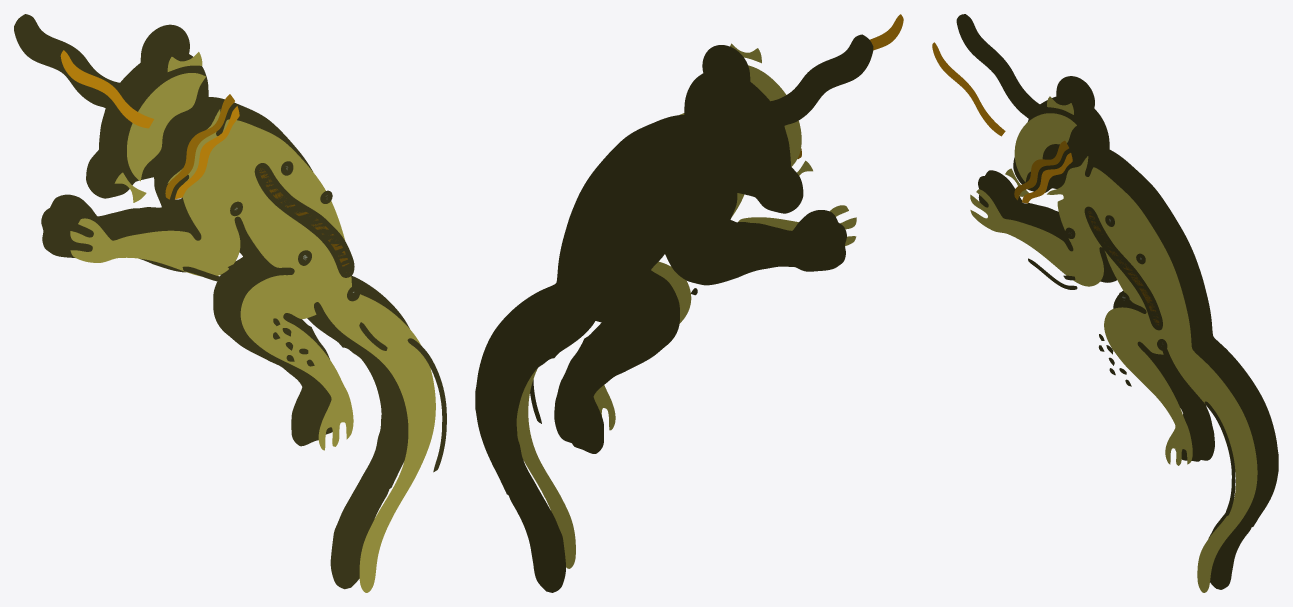
The model's file is 085_lizard.gltf.
3 renders of one model, left to right at view 1: azimuth 30°, elevation 25°; view 2: azimuth 150°, elevation 25°; view 3: azimuth 330°, elevation 25°, orthographic. The views are drawn at different scales.
Parts seen in each view (by area): view 1: Curve.007, Curve.001, Curve.004, Curve.009, Curve.002, Curve.005, Curve.006, Curve.032; view 2: Curve.001, Curve.007, Curve.004; view 3: Curve.001, Curve.007, Curve.004, Curve.009, Curve.002, Curve.005, Curve.006, Curve.032.
Boxes of the visible parts, bbox=[...] form: Curve.007: bbox=[70, 109, 435, 592]; Curve.001: bbox=[14, 14, 409, 589]; Curve.004: bbox=[127, 73, 205, 181]; Curve.009: bbox=[254, 163, 354, 277]; Curve.002: bbox=[60, 50, 153, 128]; Curve.005: bbox=[165, 94, 234, 199]; Curve.006: bbox=[175, 106, 239, 199]; Curve.032: bbox=[407, 338, 446, 472]; Curve.001: bbox=[475, 34, 873, 592]; Curve.007: bbox=[516, 113, 856, 568]; Curve.004: bbox=[748, 65, 801, 166]; Curve.001: bbox=[956, 14, 1278, 589]; Curve.007: bbox=[970, 156, 1257, 592]; Curve.004: bbox=[1014, 113, 1076, 182]; Curve.009: bbox=[1084, 206, 1162, 330]; Curve.002: bbox=[932, 42, 1005, 136]; Curve.005: bbox=[1014, 140, 1068, 200]; Curve.006: bbox=[1022, 153, 1072, 203]; Curve.032: bbox=[1204, 401, 1235, 515].
Bounding box in the file's own units: 0.1214 × 0.1848 × 0.0201.
